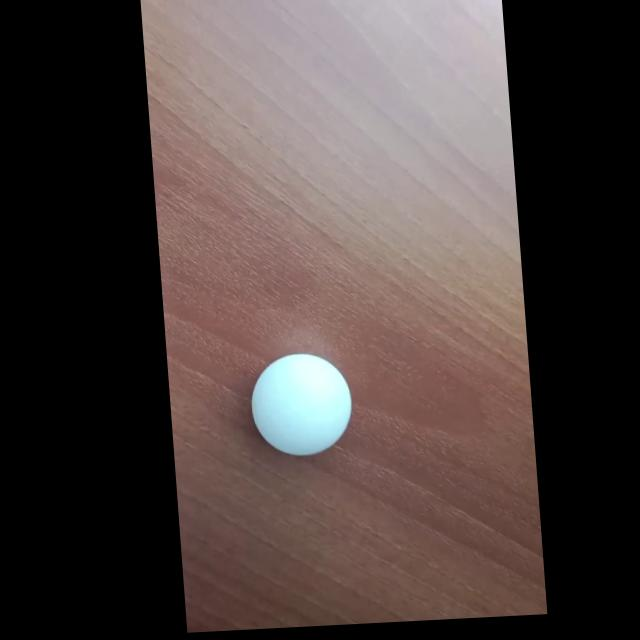white ball: (246, 349, 356, 459)
